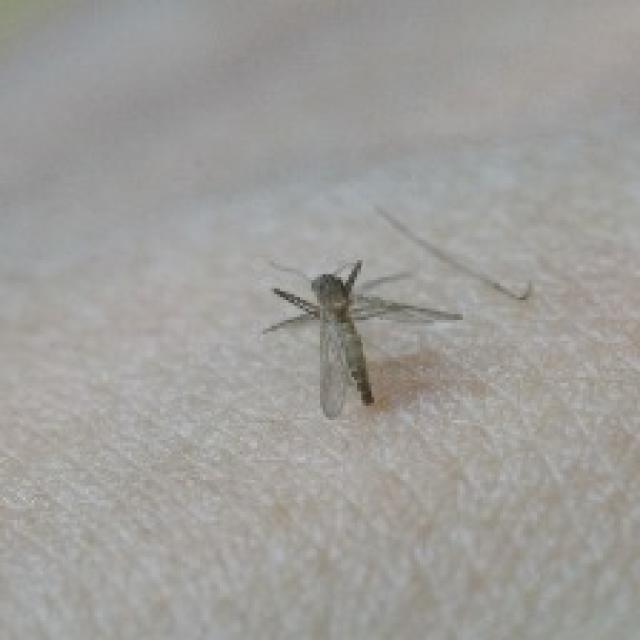culex: (260, 254, 460, 417)
